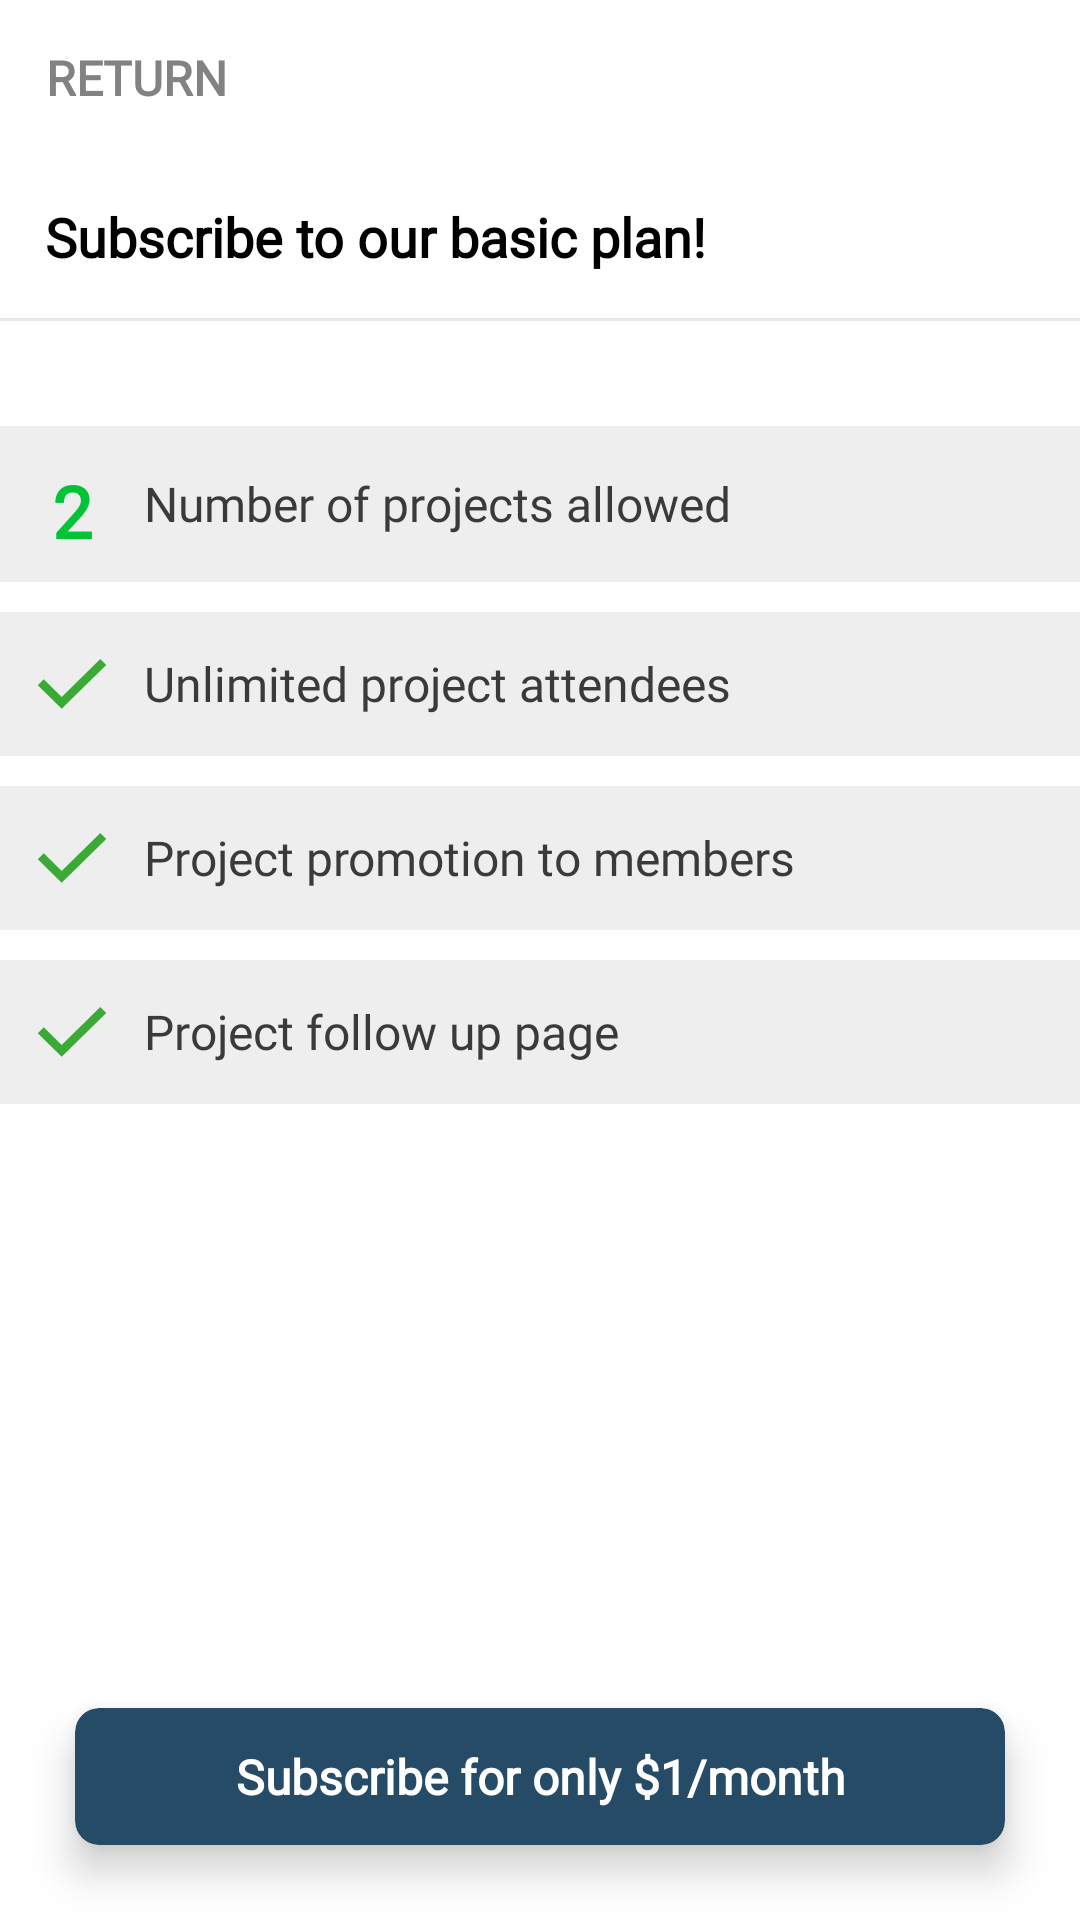

Icons on this 1080w x 1920h Android screen, each with the point to tap as [x,y]:
check: [72,684], [72,858], [72,1032]
